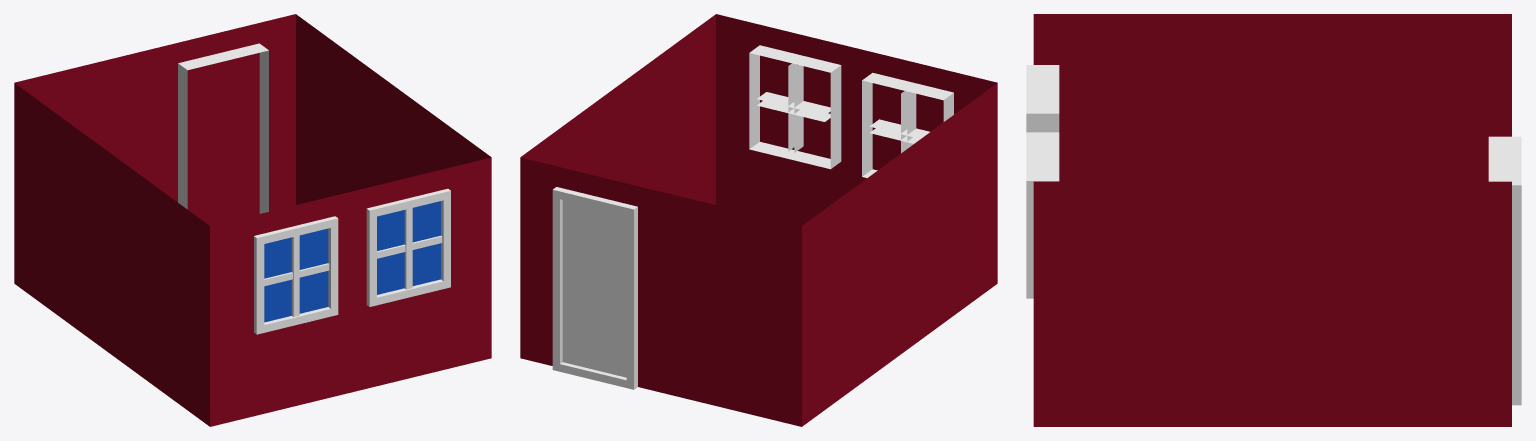
The model's file is CityBuildingA_02_base.fbx.
3 renders of one model, left to right at view 1: azimuth 30°, elevation 25°; view 2: azimuth 150°, elevation 25°; view 3: azimuth 270°, elevation 25°, orthographic. The views are drawn at different scales.
Visible parts, largest first — view 1: CityBuildingA_02_base; view 2: CityBuildingA_02_base; view 3: CityBuildingA_02_base.
Part boxes in pixels (left/top/right/bottom): CityBuildingA_02_base: left=14, top=14, right=491, bottom=426; CityBuildingA_02_base: left=520, top=14, right=997, bottom=426; CityBuildingA_02_base: left=1026, top=14, right=1521, bottom=426.
Bounding box in the file's own units: 0.4513 × 0.3075 × 0.563.
